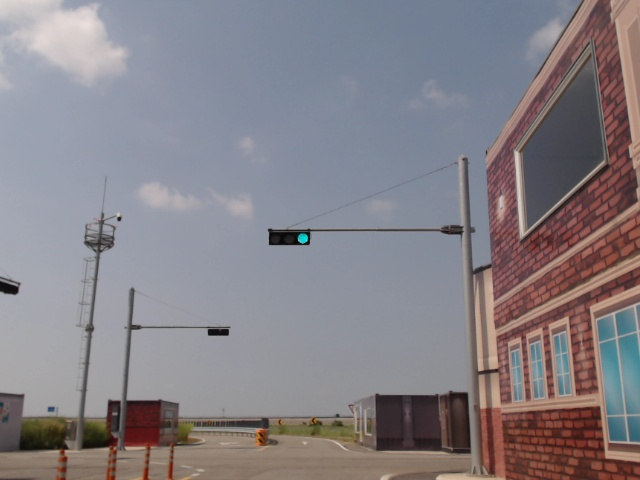green_3: (269, 231, 311, 245)
